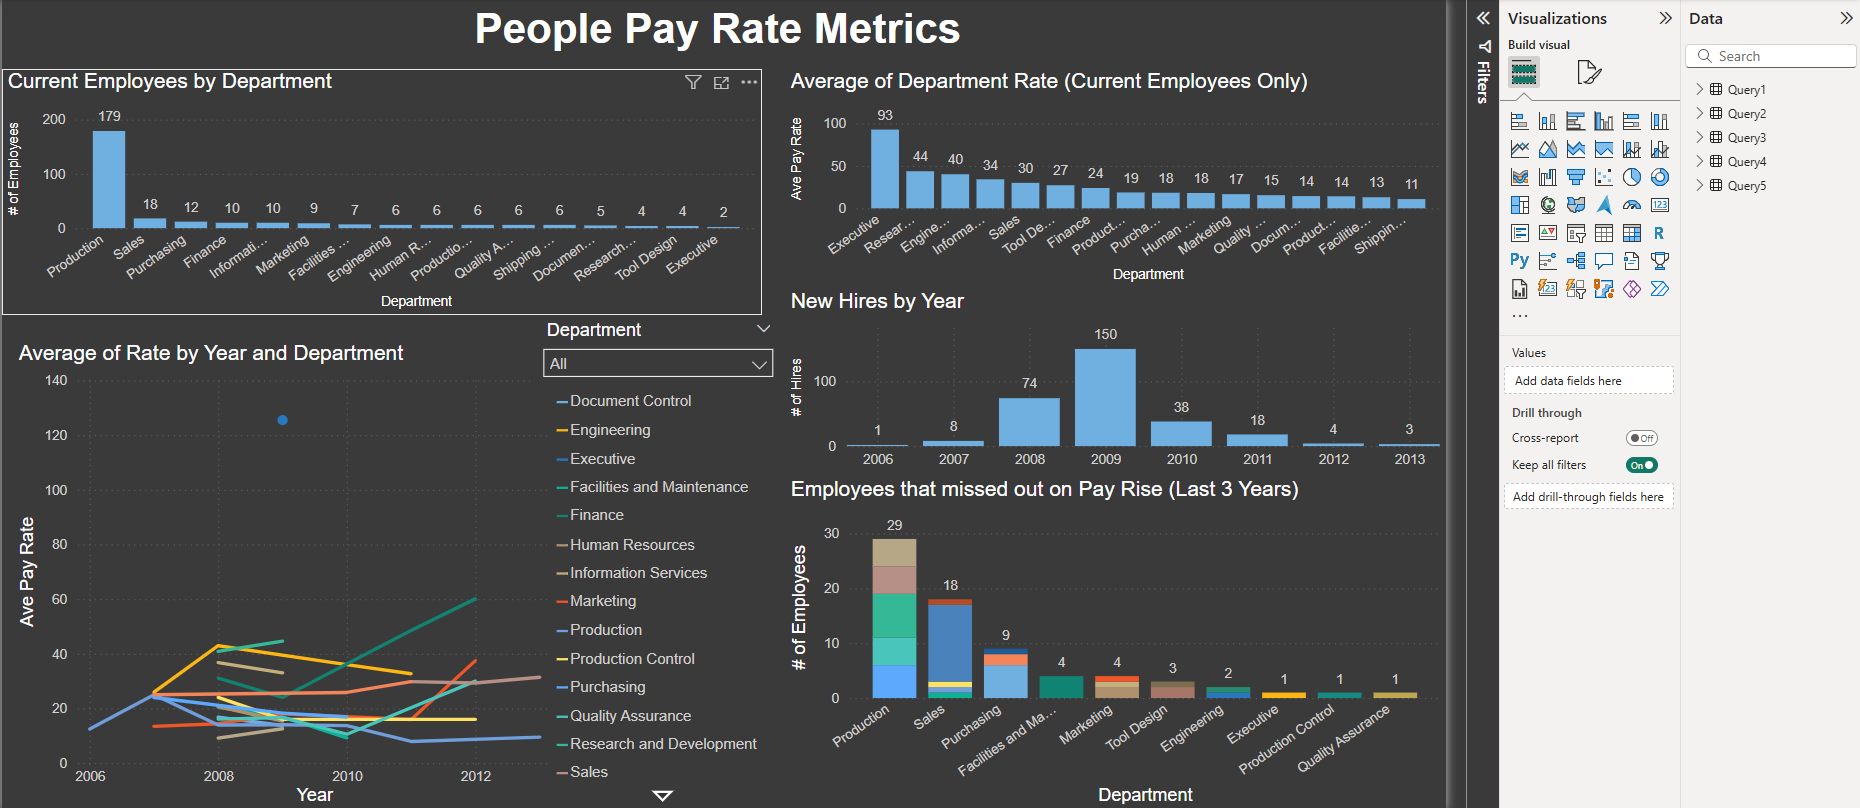

The page's visual inventory and layout, read from the dashboard file:
{"tool":"powerbi","page":{"name":"Page 1","canvas":[1280,720],"ordinal":0},"visuals":[{"type":"columnChart","title":"Current Employees by Department","fields":{"Category":["Query1.Department"],"Y":["Sum(Query1.EmployeeID)"]},"box":[0,62.1,673.9,218.1],"z":0},{"type":"lineChart","fields":{"Category":["Query2.RateChangeDate.Variation.Date Hierarchy.Year","Query2.RateChangeDate.Variation.Date Hierarchy.Month"],"Y":["Avg(Query2.Rate)"],"Series":["Query2.Department"]},"box":[9.7,303.5,674,416.3],"z":1},{"type":"slicer","fields":{"Values":["Query2.Department"]},"box":[470,280.2,224.3,70],"z":2},{"type":"columnChart","title":"Average of Department Rate (Current Employees Only)","fields":{"Category":["Query3.Department"],"Y":["Avg(Query3.DepartmentAverageRate)"]},"box":[694.5,62.2,585.5,194.5],"z":3},{"type":"columnChart","title":"New Hires by Year","fields":{"Category":["Query4.HireYear"],"Y":["Sum(Query4.NewHires)"]},"box":[694.5,256.8,585.5,167.3],"z":4},{"type":"columnChart","title":"Employees that missed out on Pay Rise (Last 3 Years)","fields":{"Category":["Query5.Department"],"Y":["Count(Query5.BusinessEntityID)"],"Series":["Query5.JobTitle"]},"box":[694,424,586,295],"z":5},{"type":"textbox","box":[0,0,1280,62.2],"z":6}]}

Visuals, with their boxes on the page's 1280x720 design canvas (x1, y1, x2, y2). These are canvas units, not pixel positions in the 1860x808 screenshot, which may show the page scaled, cropped or inside an application window:
"Current Employees by Department" columnChart: Rect(0, 62, 674, 280)
lineChart - Query2.RateChangeDate.Variation.Date Hierarchy.Year x Query2.RateChangeDate.Variation.Date Hierarchy.Month: Rect(10, 304, 684, 720)
slicer - Query2.Department: Rect(470, 280, 694, 350)
"Average of Department Rate (Current Employees Only)" columnChart: Rect(694, 62, 1280, 257)
"New Hires by Year" columnChart: Rect(694, 257, 1280, 424)
"Employees that missed out on Pay Rise (Last 3 Years)" columnChart: Rect(694, 424, 1280, 719)
textbox: Rect(0, 0, 1280, 62)
